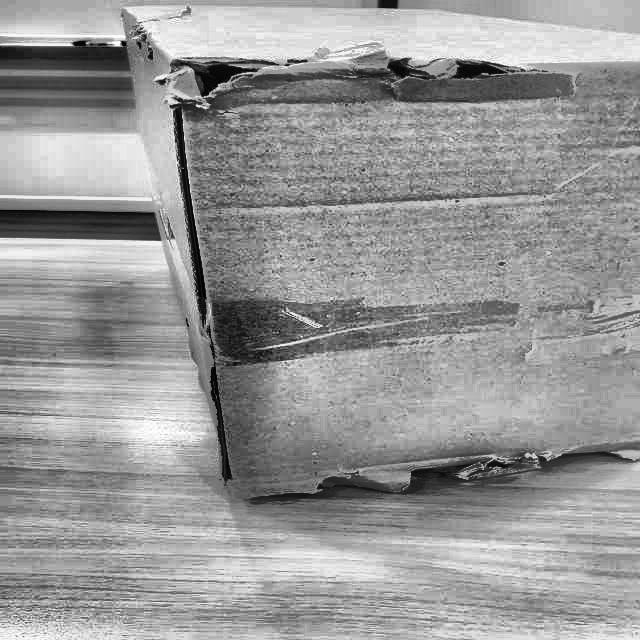box: (110, 0, 639, 515)
hole: (379, 51, 551, 95), (171, 50, 279, 92)
